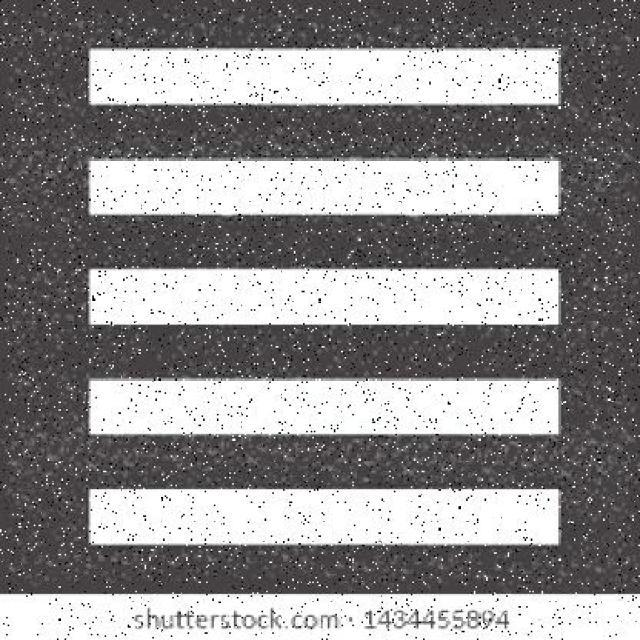crosswalk: (52, 14, 603, 574)
